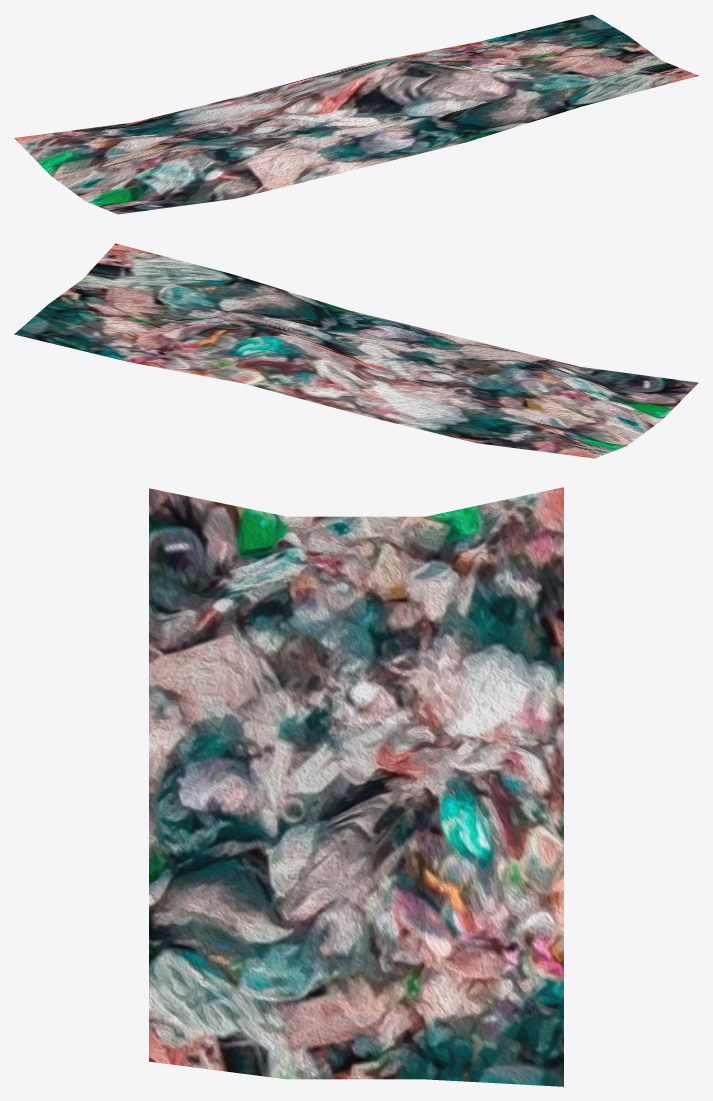
File: Trash_Can_03_Trash.fbx
3 renders of one model, top to bottom at view 1: azimuth 30°, elevation 25°; view 2: azimuth 150°, elevation 25°; view 3: azimuth 270°, elevation 25°, orthographic. The views are drawn at different scales.
Visible parts, largest first — view 1: Trash_Can_03_Trash; view 2: Trash_Can_03_Trash; view 3: Trash_Can_03_Trash.
Part boxes in pixels (x1,y1,x2,y2): Trash_Can_03_Trash: [14, 14, 698, 214]; Trash_Can_03_Trash: [14, 243, 698, 458]; Trash_Can_03_Trash: [149, 487, 563, 1086].
Size of the model in its own units: 151 by 8.52 by 46.76.
